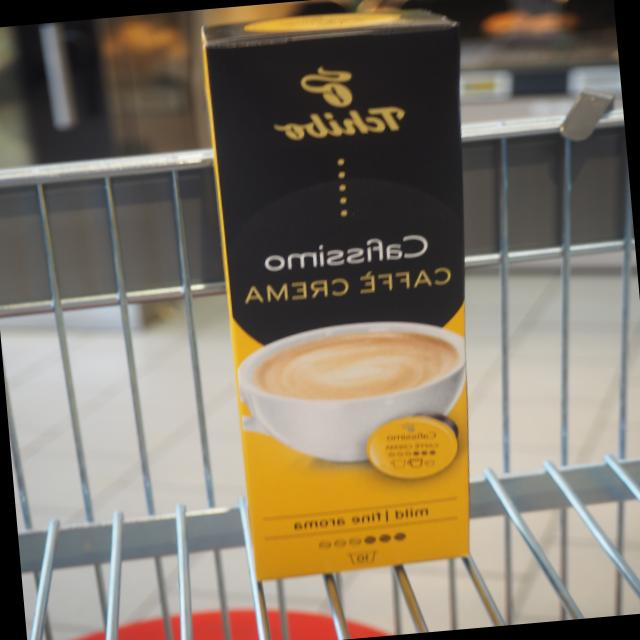Simo CCMild bigpack: (198, 2, 499, 592)
